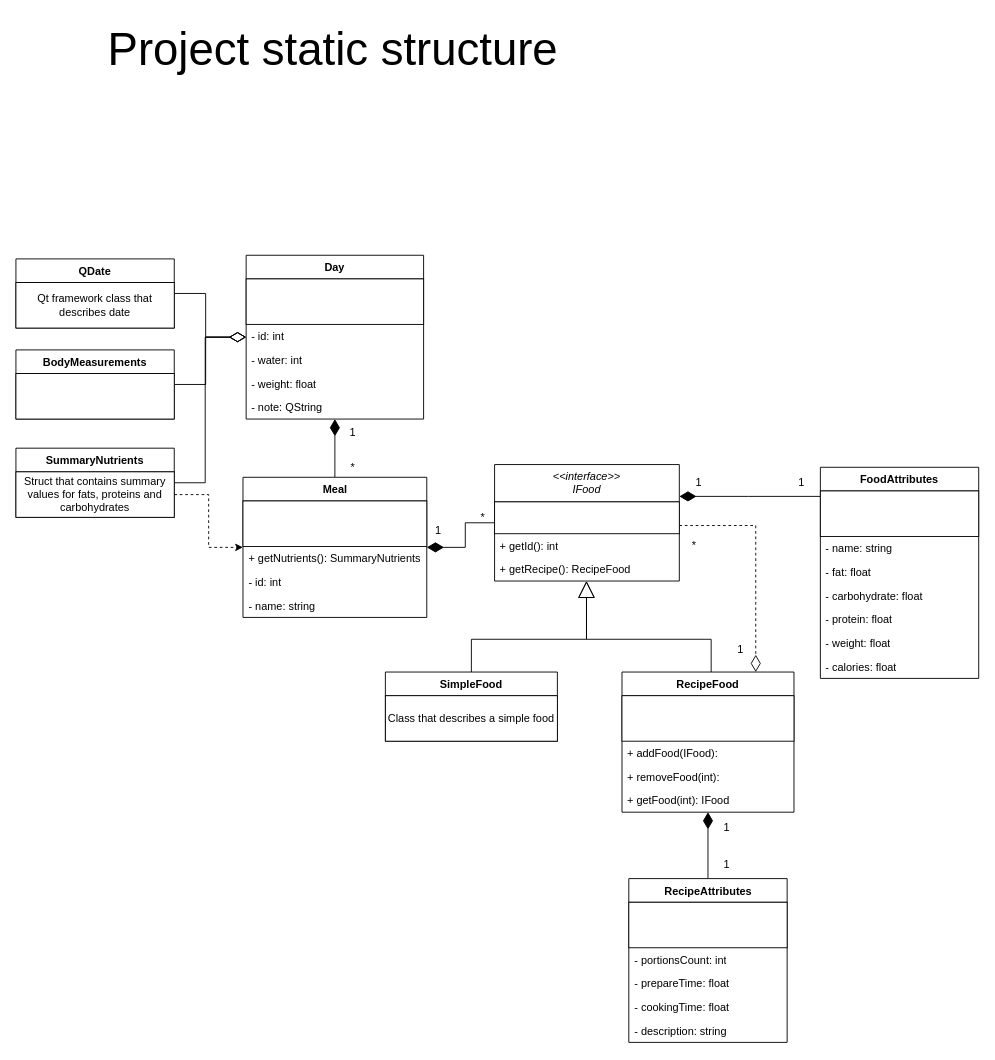
The diagram is 995 pixels wide and 1060 high, and some of its shapes have lost their labels. Each missing label, with the centre of its shape:
Class that describes a day of measurements: (x=334, y=301)
Class that describes a food that contains a set of other food items: (x=707, y=718)
Class that describes the one meal: (x=334, y=523)
Interface of a component food class: (x=586, y=517)
Struct for measures body sizes: (x=94, y=396)
Struct that describes a food attributes: (x=899, y=513)
Struct that describes a recipe attributes: (x=707, y=924)
